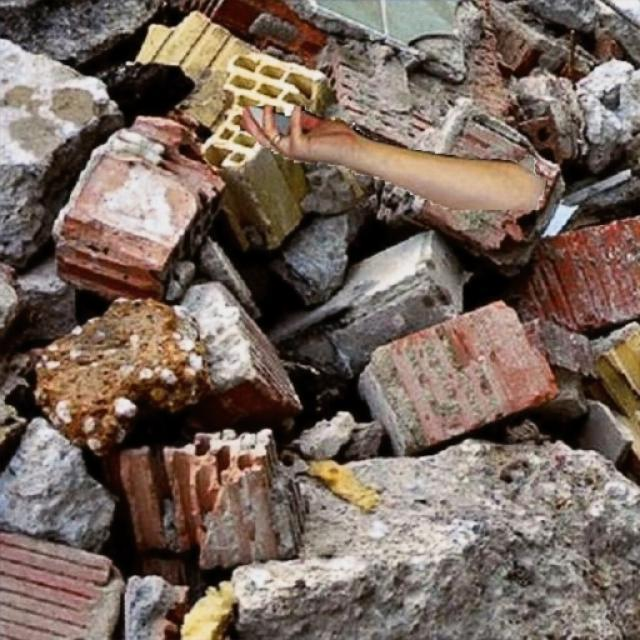Person in Rubble: (238, 106, 546, 209)
